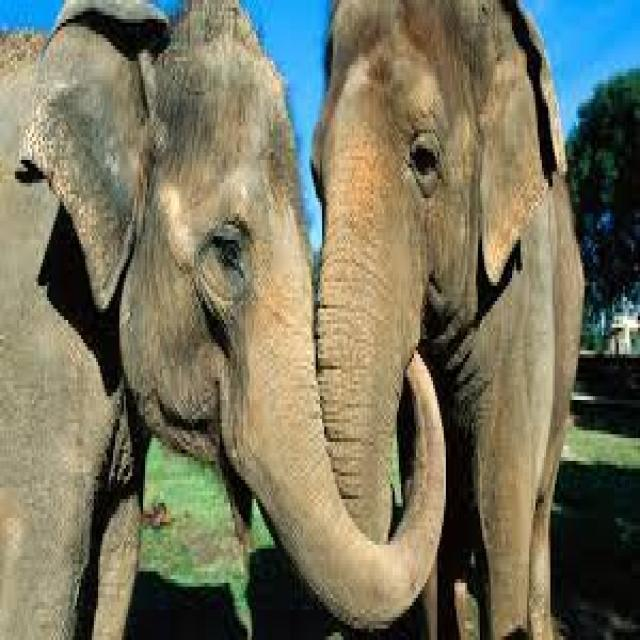Elephant: (0, 0, 446, 636), (310, 0, 584, 636)
